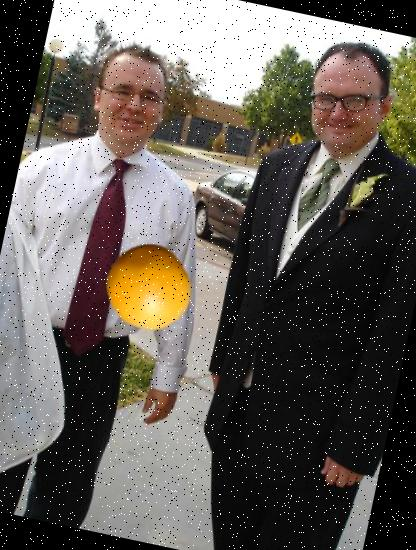Grapefruit: (96, 236, 202, 341)
